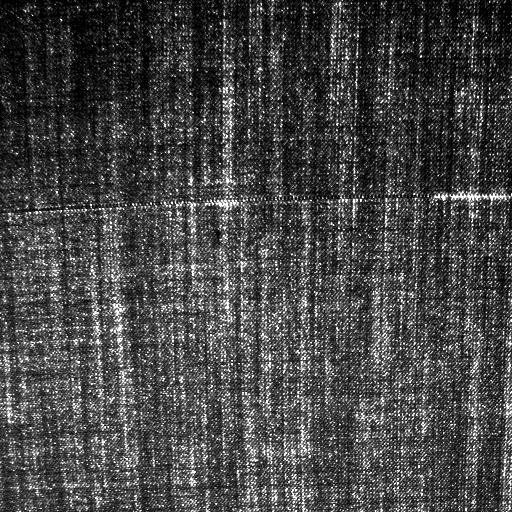fabric_broken_pick: (19, 190, 491, 208)
